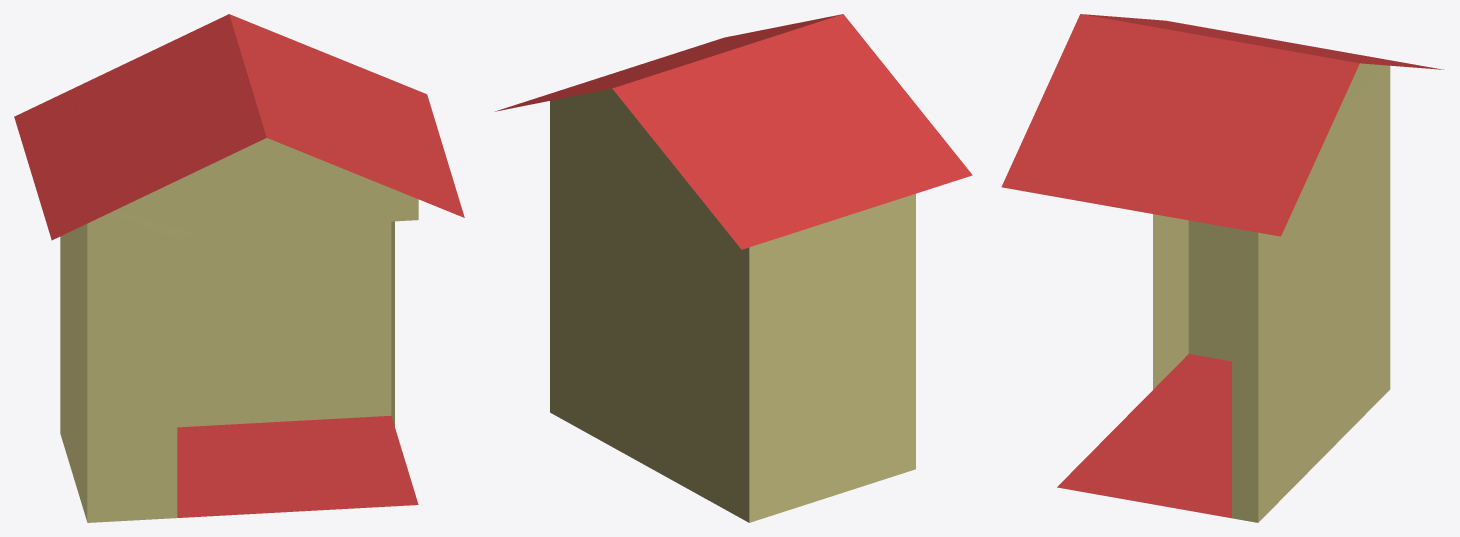
3 views of the same model, side by side, from view 1: azimuth 30°, elevation 25°; view 2: azimuth 150°, elevation 25°; view 3: azimuth 270°, elevation 25° (orthographic). The views are drawn at different scales.
Size of the model in its own units: 12.07 by 10.49 by 10.51.
